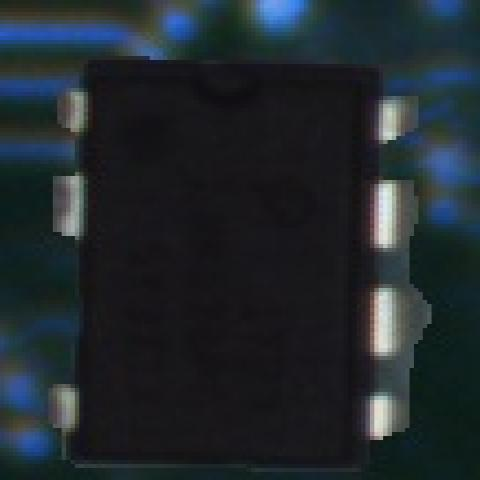IC: (62, 41, 437, 465)
